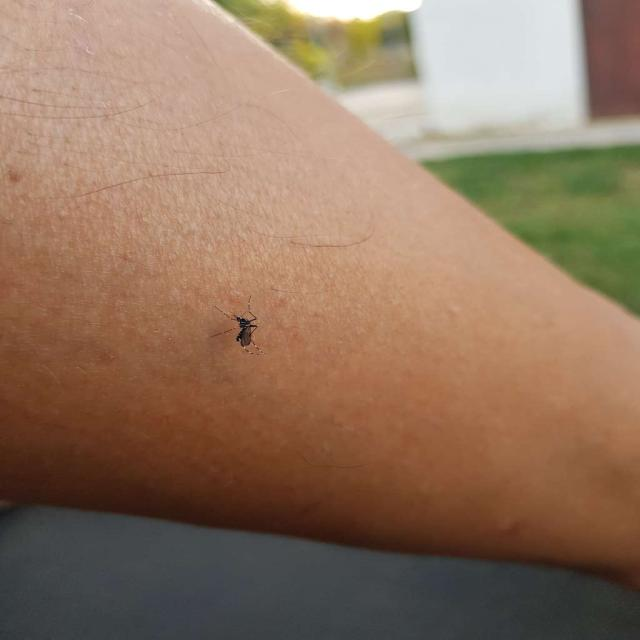albopictus: (206, 288, 273, 356)
